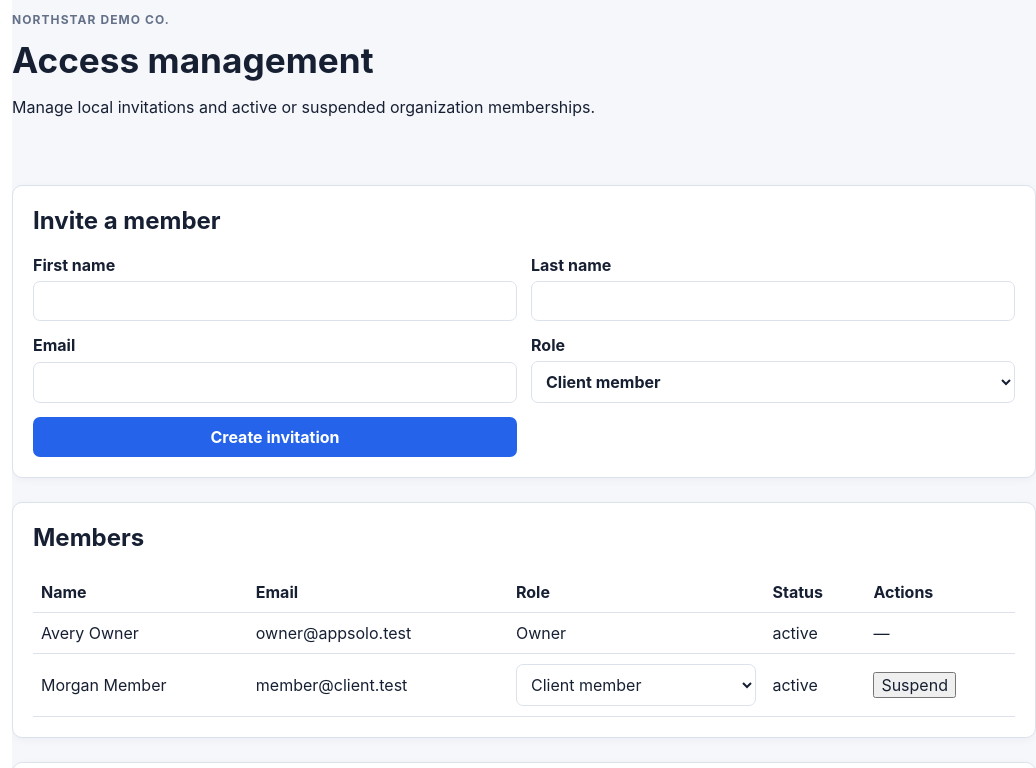
access management › hides above-ceiling owner actions and submits the allowed client-member invitation
The width and height of the screenshot is (1036, 768).
expect the heading "Access management" is shown: met, box [12,39,374,81]
expect the dropdown labelled "Role" does not show "Developer": met, box [531,361,1015,403]
Type "Jamie" into the field labelled "First name" at (275, 301), box [33,281,517,321]
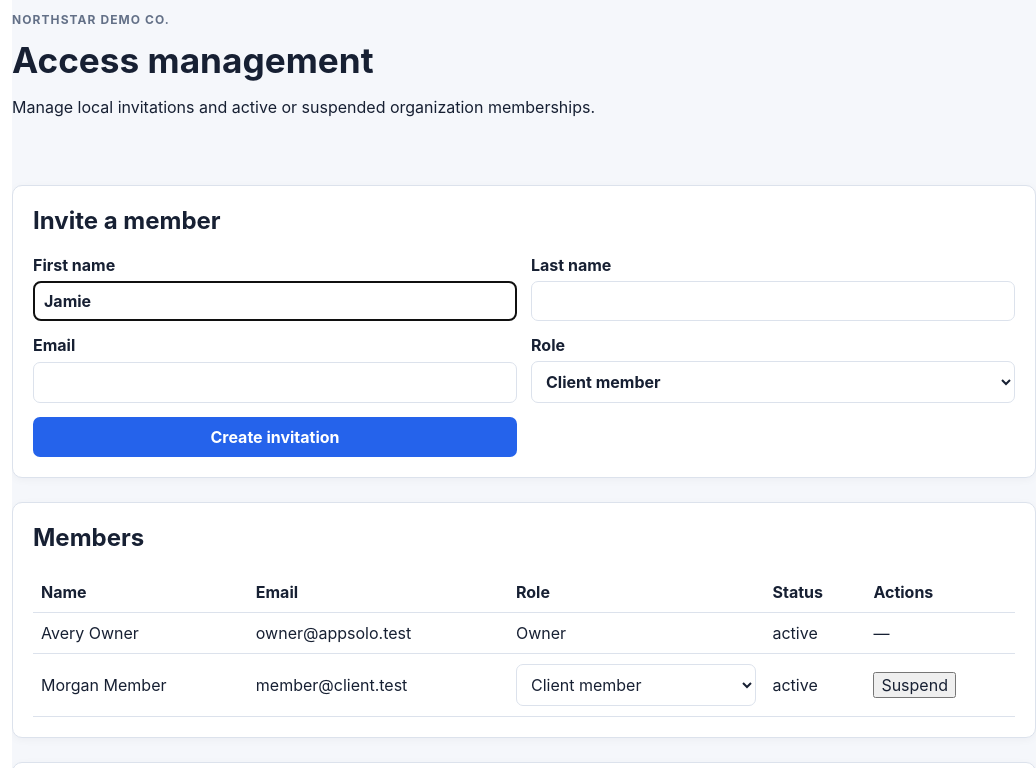
Type "Invitee" into the field labelled "Last name" at (773, 301), box [531,281,1015,321]
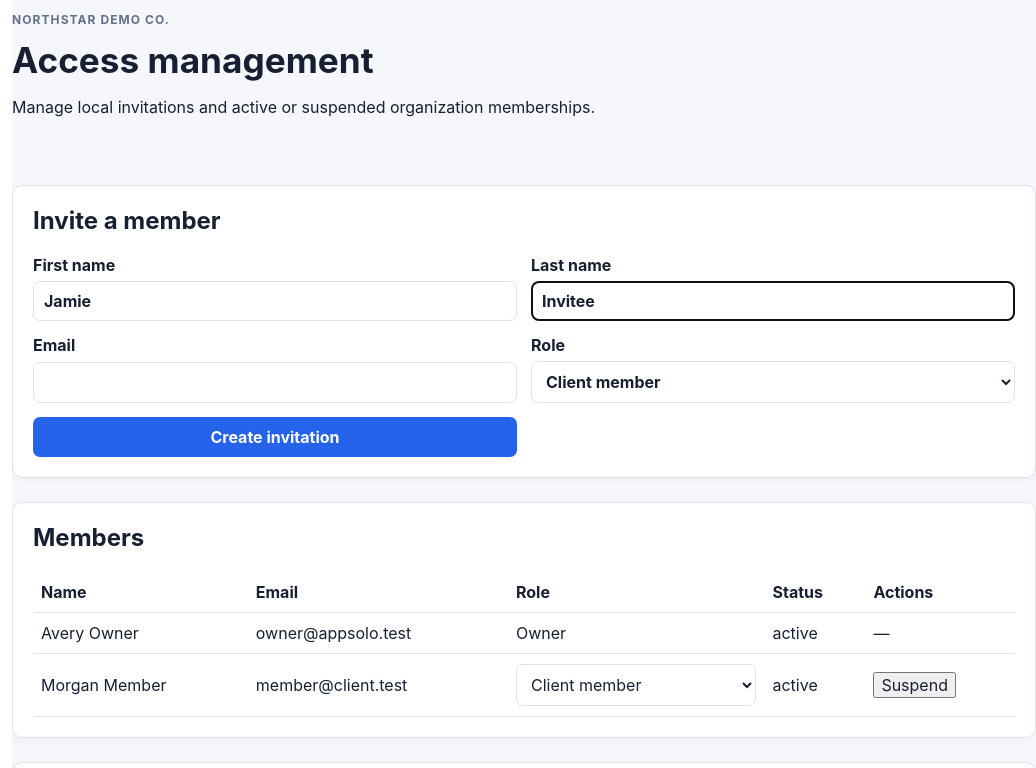
Type "jamie@client.test" into the field labelled "Email" at (275, 382), box [33,362,517,403]
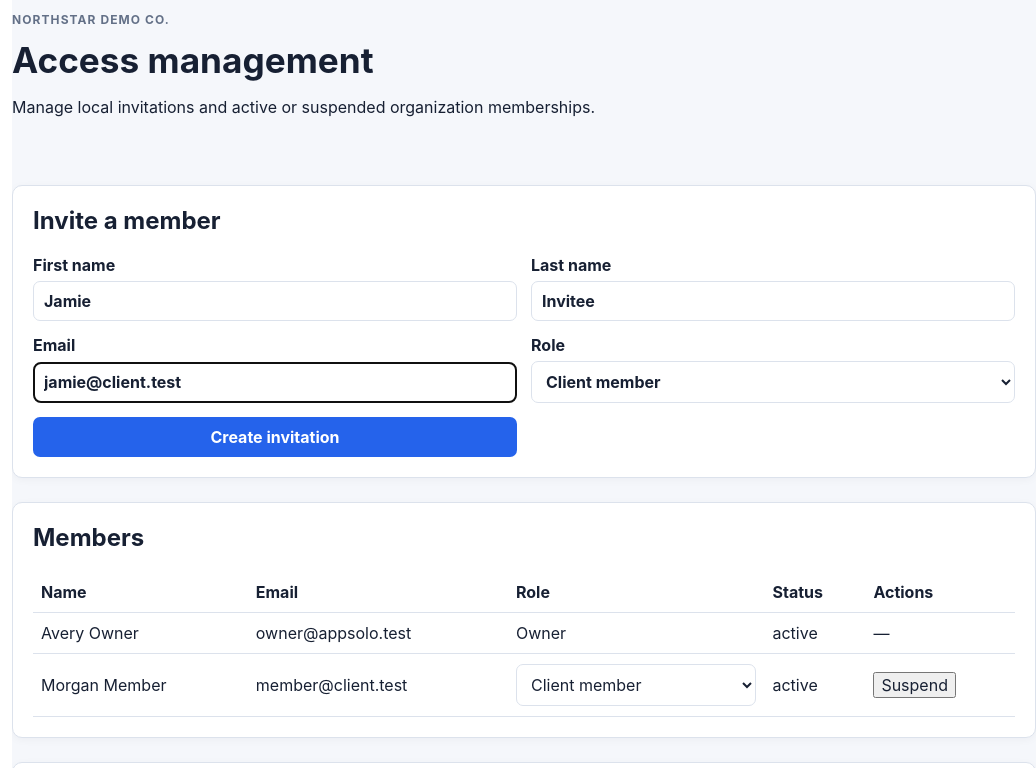
Click the button "Create invitation" at (275, 437), box [33,417,517,457]
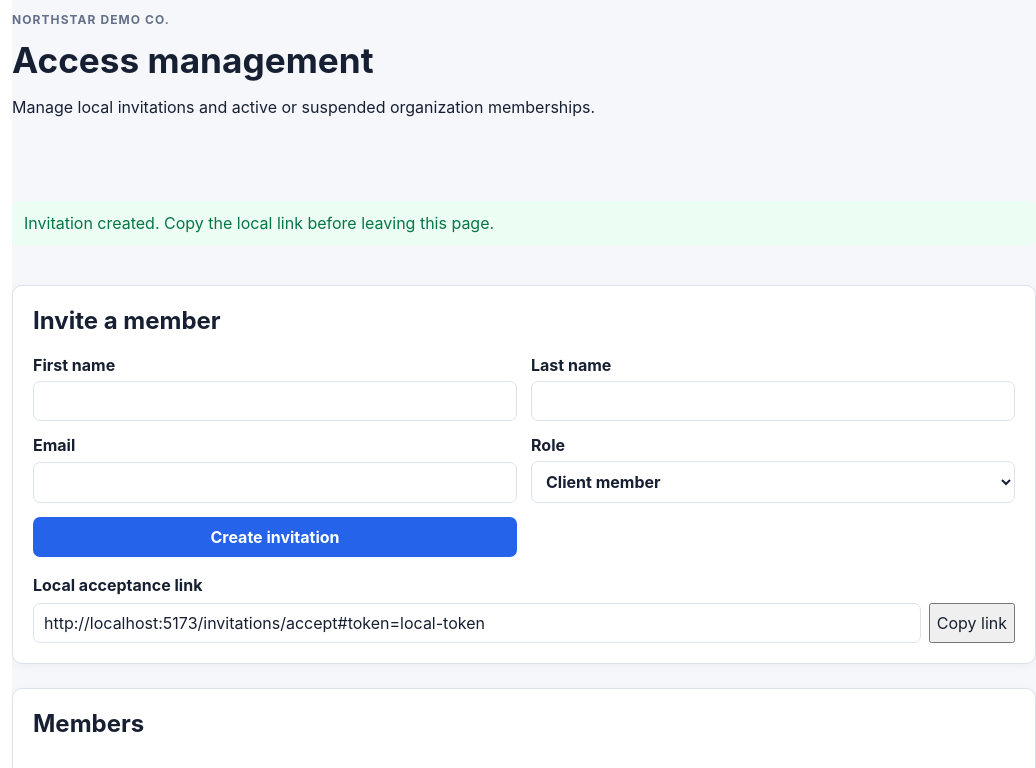
expect the field labelled "Local acceptance link" holds "http://localhost:5173/invitations/accept#token=local-token": met, box [33,603,921,643]
